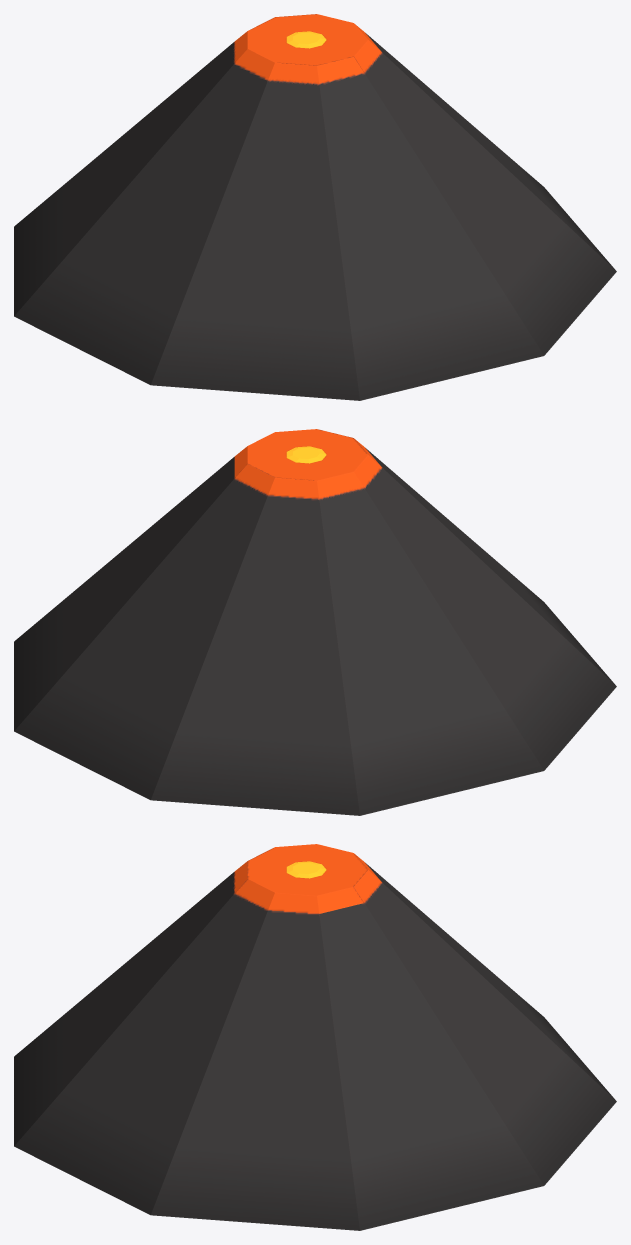
File: decor_volcano.glb
3 renders of one model, top to bottom at view 1: azimuth 30°, elevation 25°; view 2: azimuth 150°, elevation 25°; view 3: azimuth 270°, elevation 25°, orthographic.
Visible parts, largest first — view 1: decor_volcano; view 2: decor_volcano; view 3: decor_volcano.
Part boxes in pixels (left/top/right/bottom): decor_volcano: left=14, top=14, right=616, bottom=400; decor_volcano: left=14, top=429, right=616, bottom=815; decor_volcano: left=14, top=844, right=616, bottom=1230.
Size of the model in its own units: 17.73 by 7.45 by 17.46.
1 material, 1 textured.
